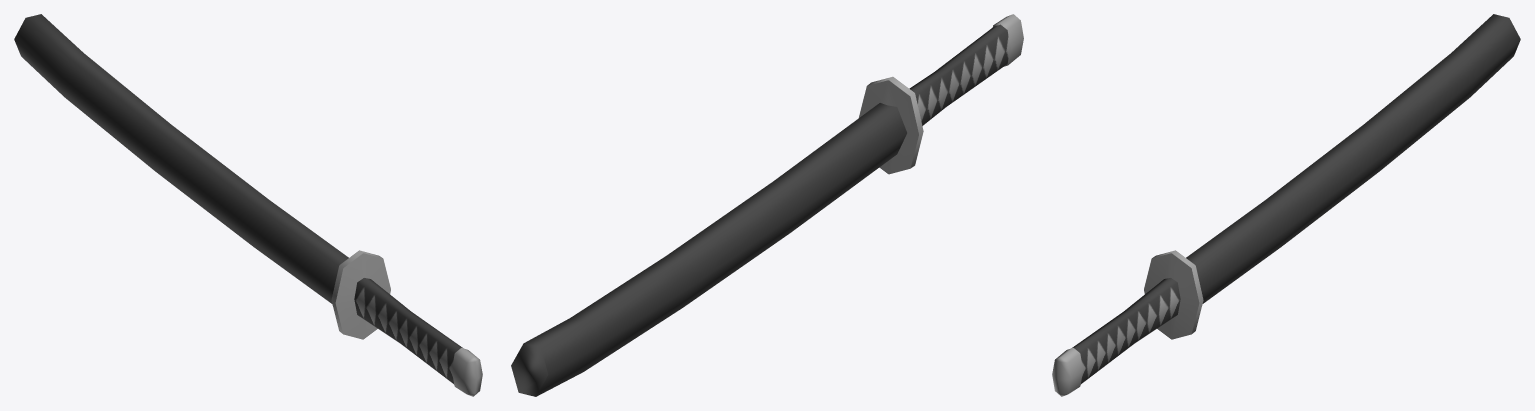
File: Katana_01.fbx
The picture shows the model from 3 angles, left to right: view 1: azimuth 30°, elevation 25°; view 2: azimuth 150°, elevation 25°; view 3: azimuth 330°, elevation 25°; orthographic projection. The views are drawn at different scales.
Parts seen in each view (by area): view 1: saya, katana; view 2: saya, katana; view 3: saya, katana.
Part boxes in pixels (bbox=[...]): saya: bbox=[14, 14, 348, 303]; katana: bbox=[331, 250, 482, 396]; saya: bbox=[511, 103, 906, 396]; katana: bbox=[859, 14, 1023, 174]; saya: bbox=[1186, 14, 1520, 303]; katana: bbox=[1052, 250, 1203, 396].
Size of the model in its own units: 3.94 by 5.85 by 54.87.
1 material, 1 textured.
